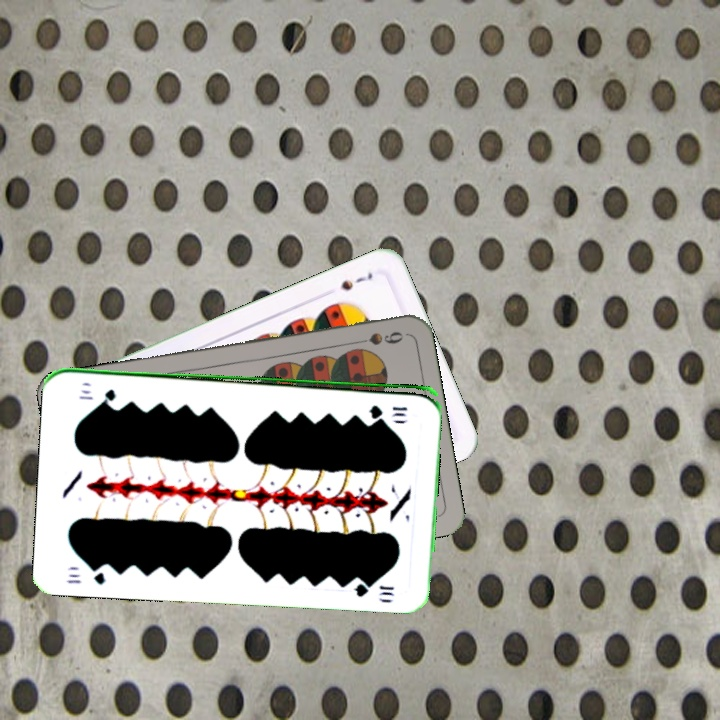G10: (63, 561, 107, 587), (365, 401, 410, 419)
S7: (336, 268, 376, 293)
S9: (347, 327, 407, 348)
